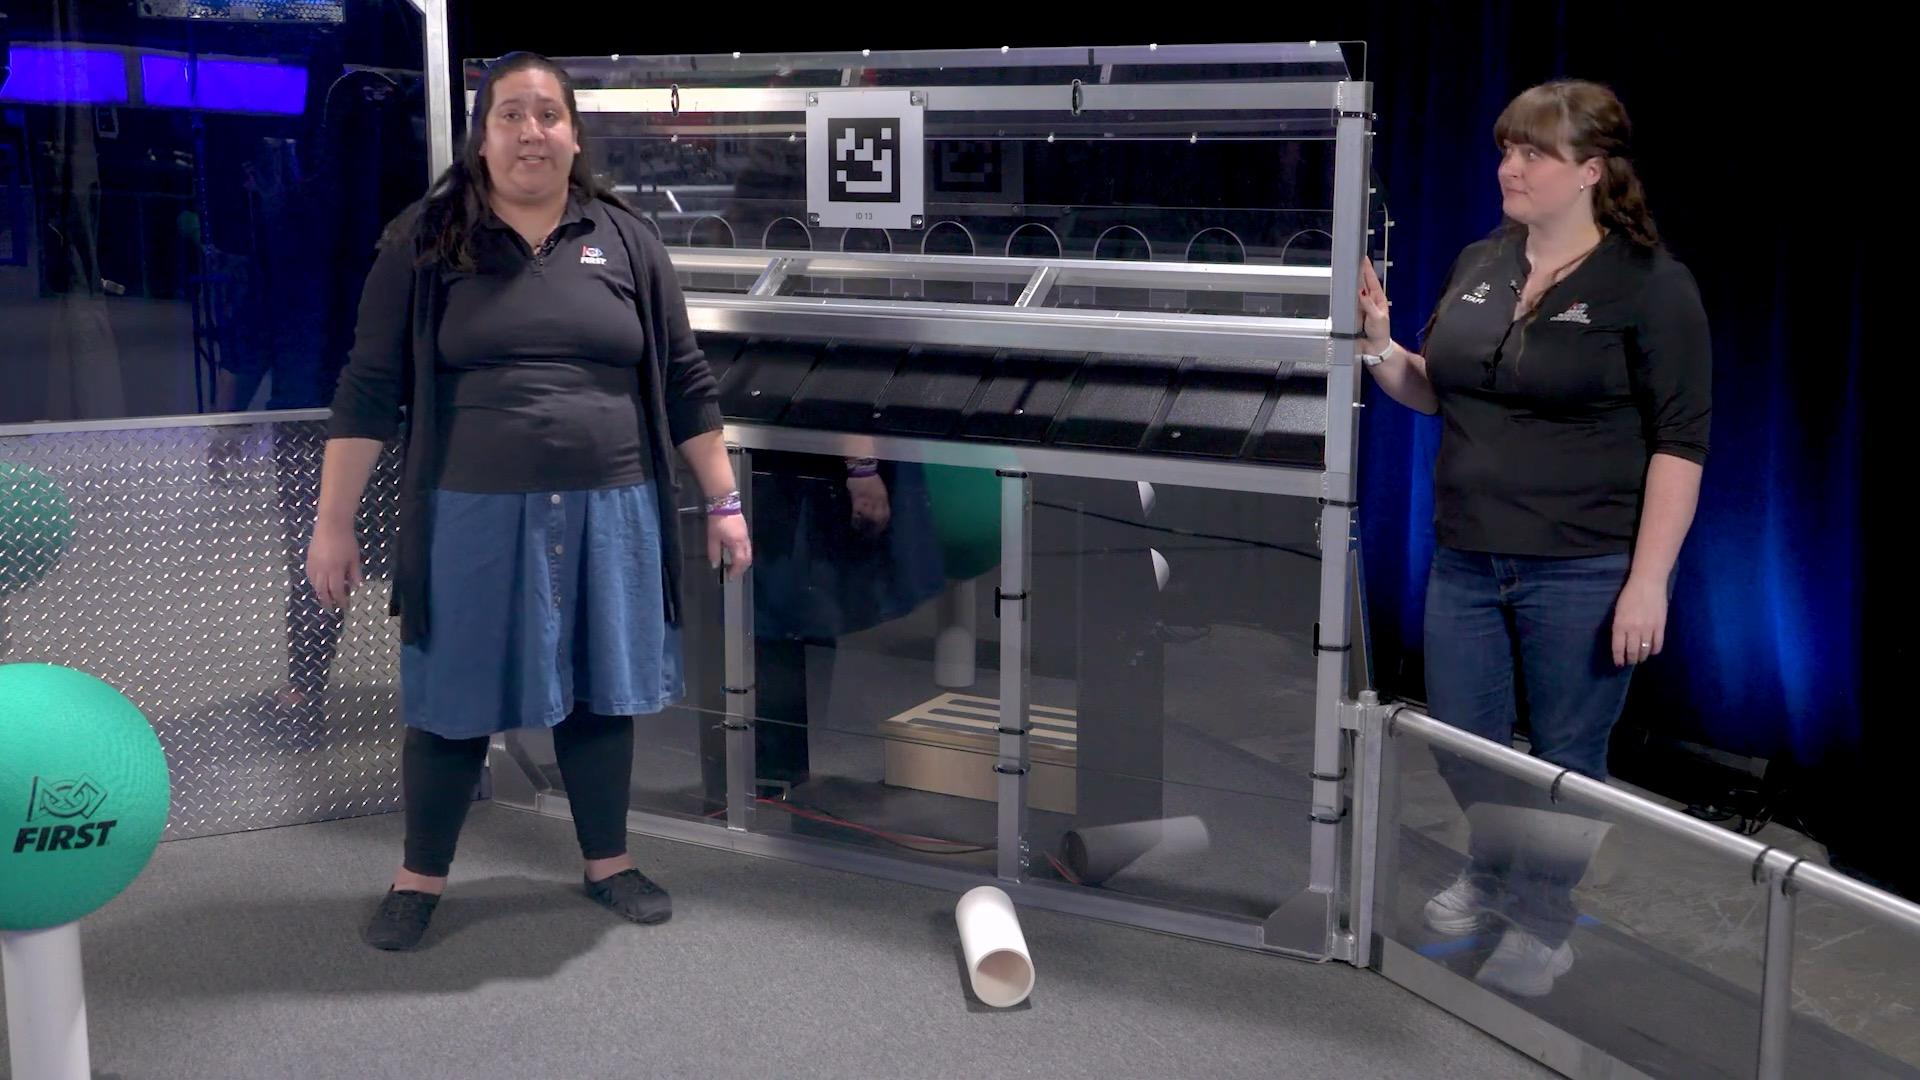ALGAE: (0, 661, 171, 931)
CORAL: (0, 918, 94, 1080), (955, 886, 1036, 1009)
